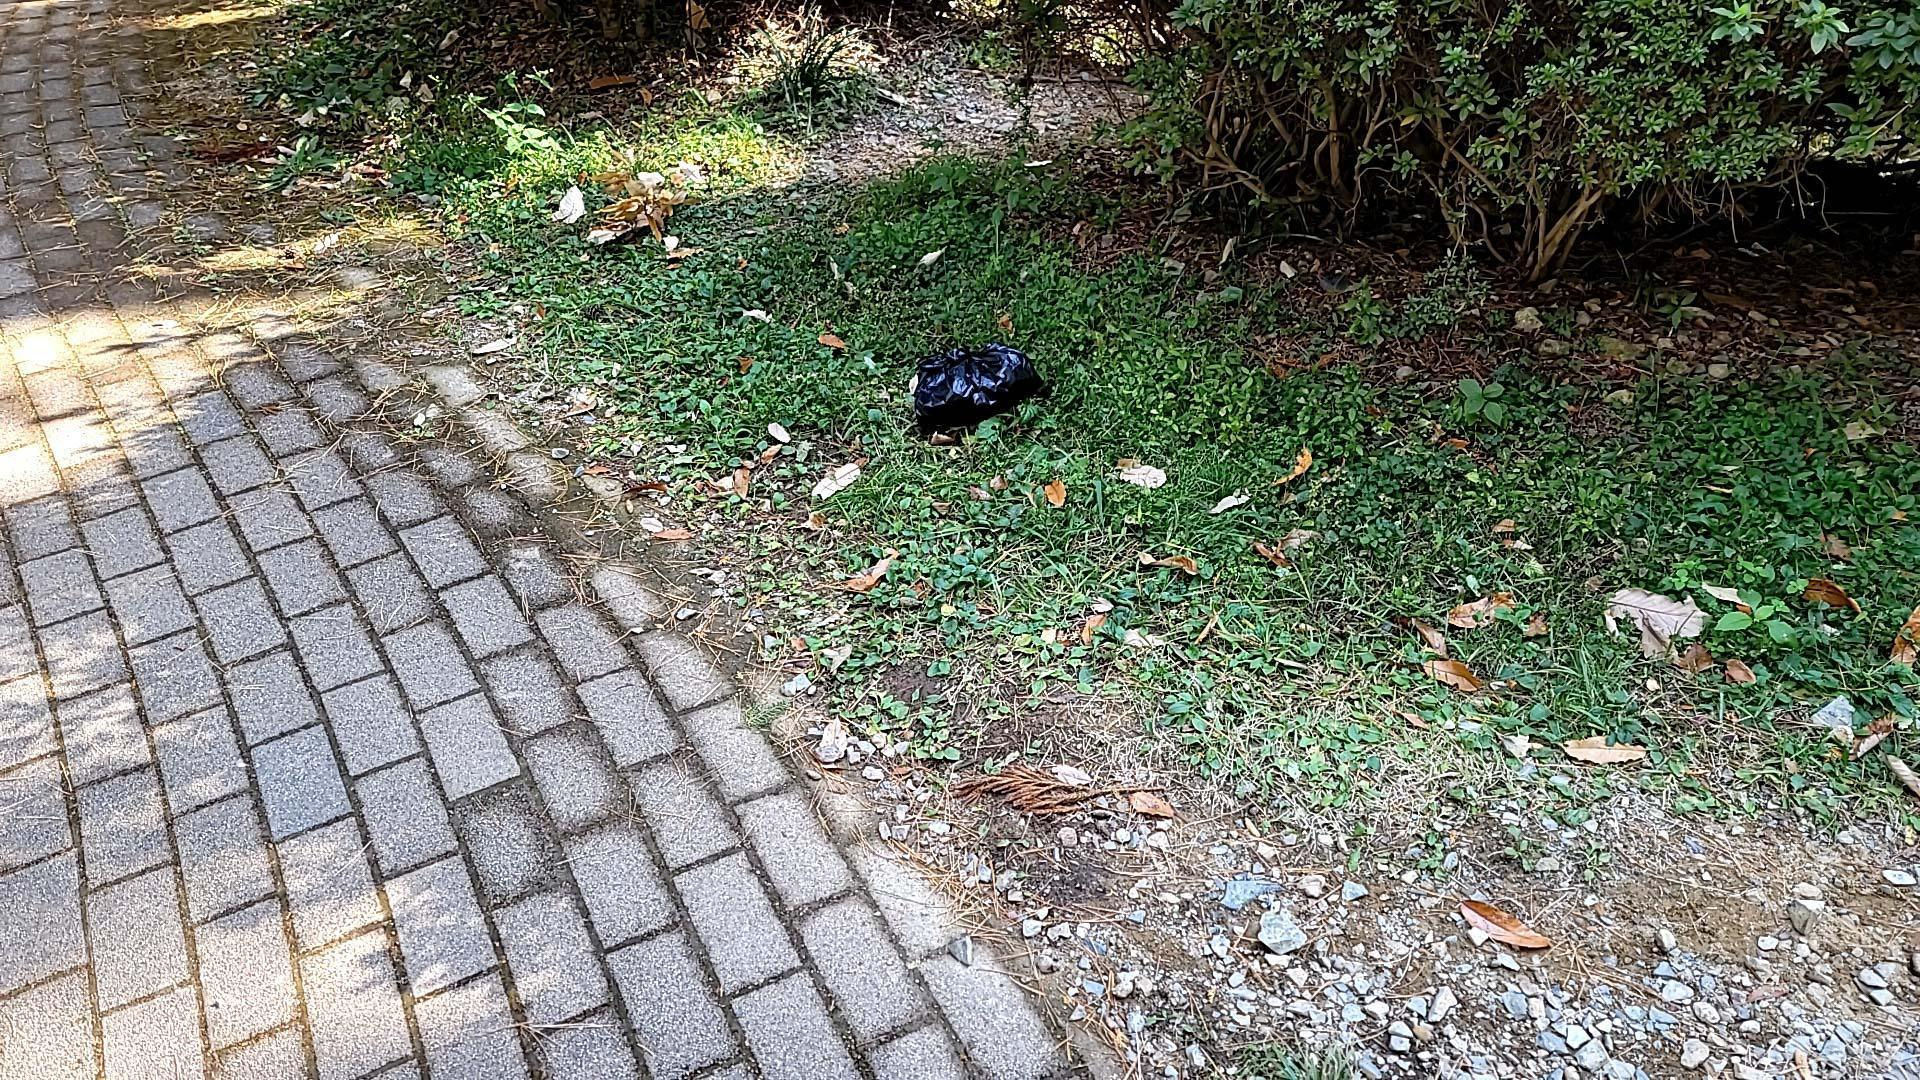black_bag: (909, 332, 1046, 436)
